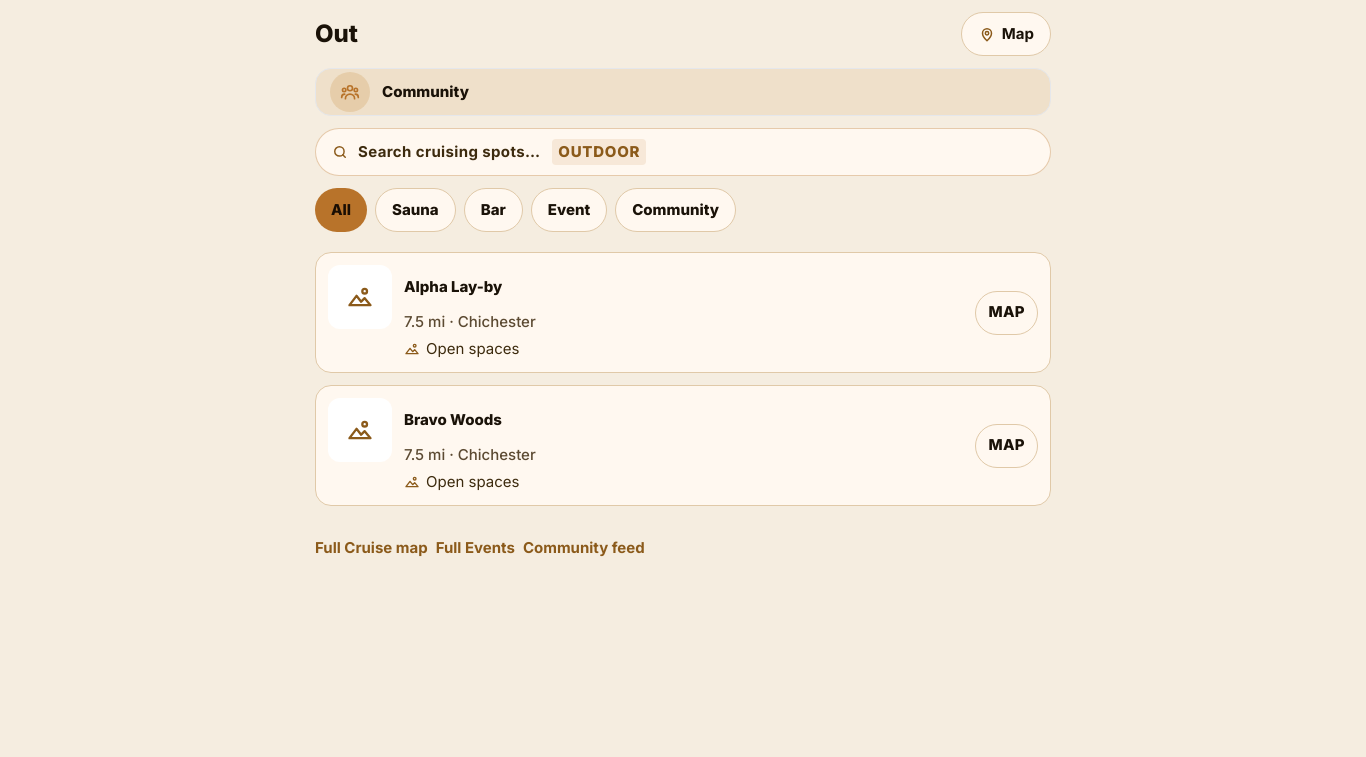
Test: Out list re-reads are latest-wins › a late re-read for spot A does not overwrite spot B's newer check-in
The image size is (1366, 757).
Click the button "Alpha Lay-by" at (453, 286), box [404,265,963,309]
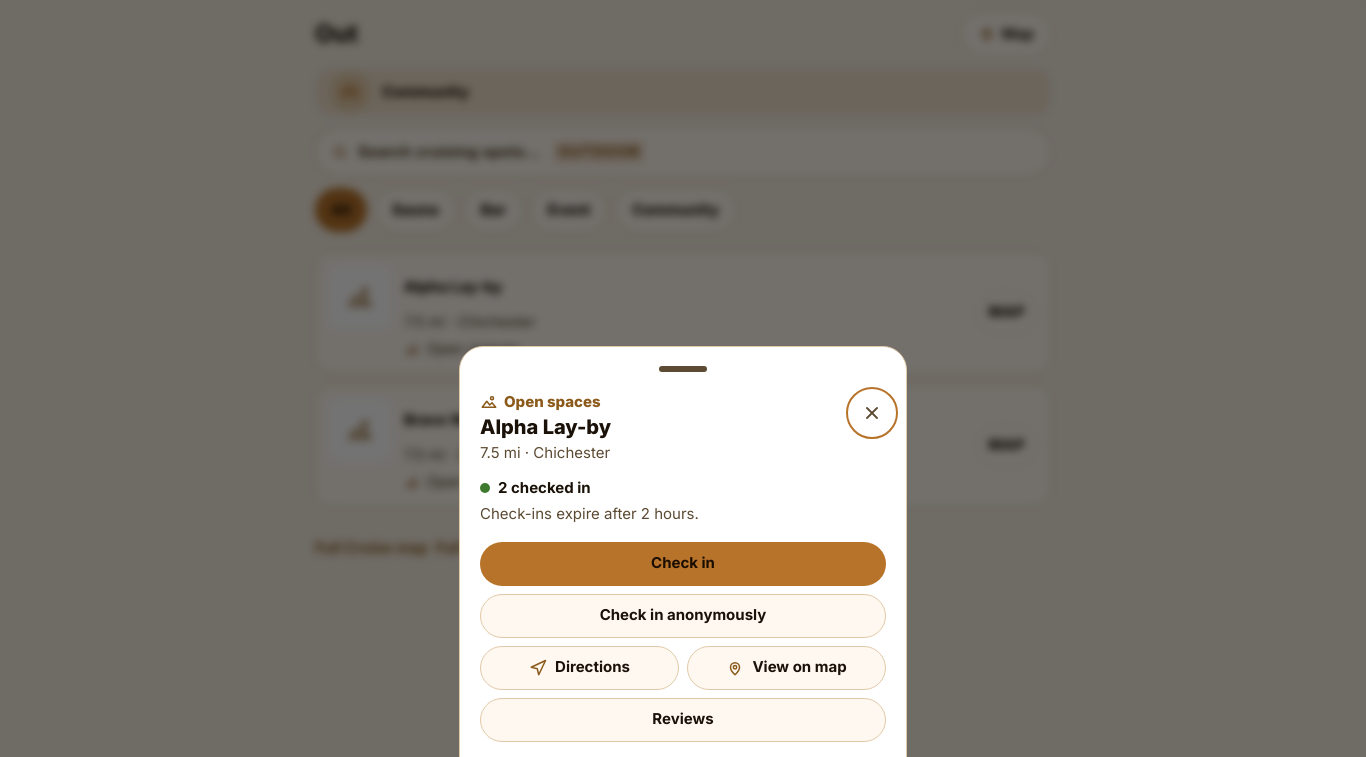
Click the button with test id "hotspot-sheet-checkin" at (683, 564), box [480,542,886,586]
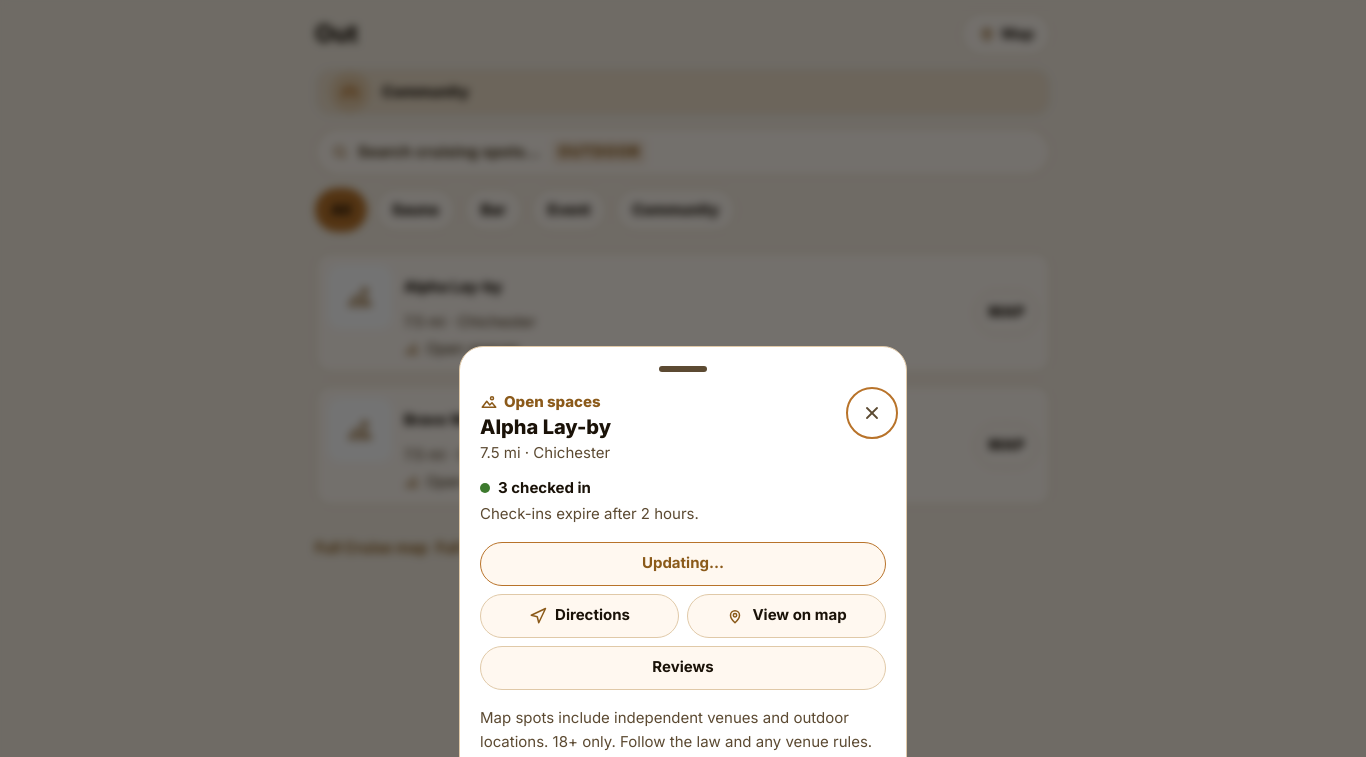
Click the button with test id "hotspot-sheet-close" at (872, 413), box [850,391,894,435]
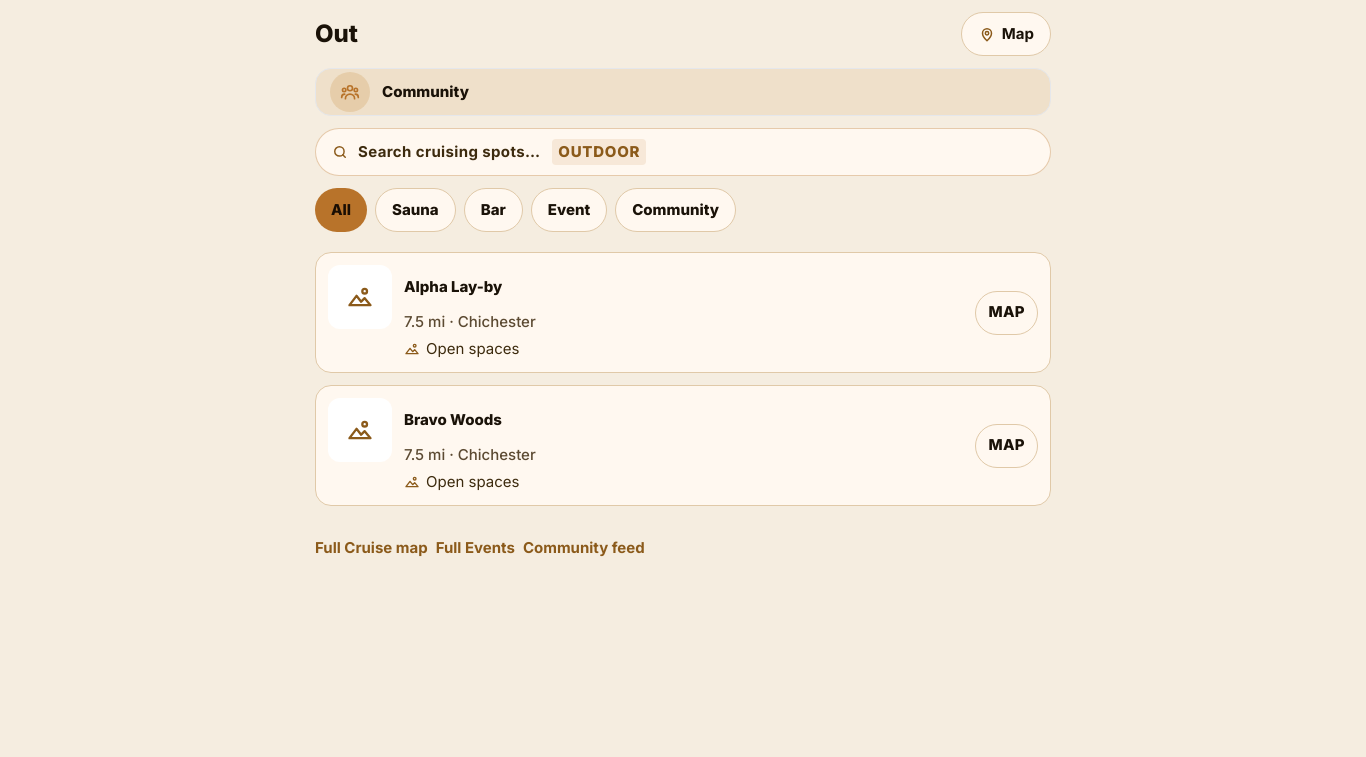
Click the button "Bravo Woods" at (453, 419), box [404,398,963,442]
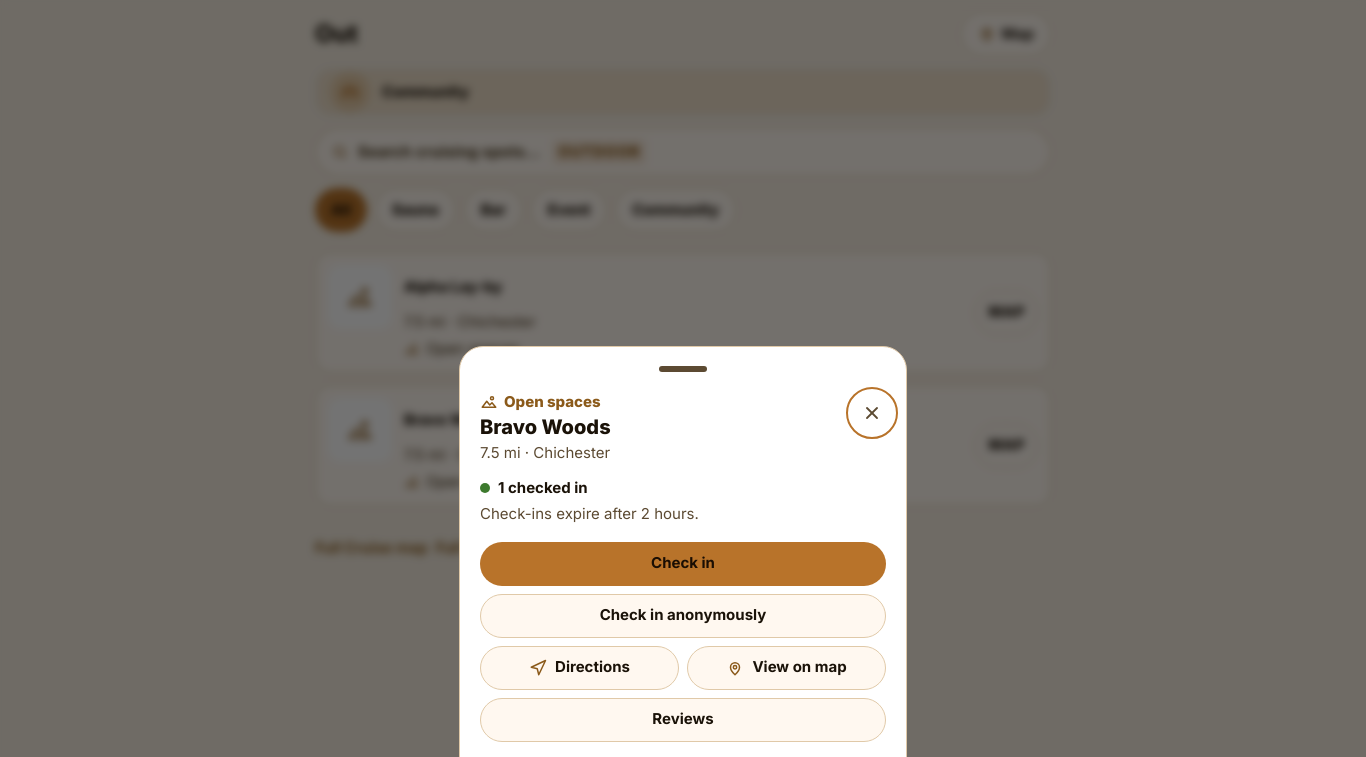
Click the button with test id "hotspot-sheet-checkin" at (683, 564), box [480,542,886,586]
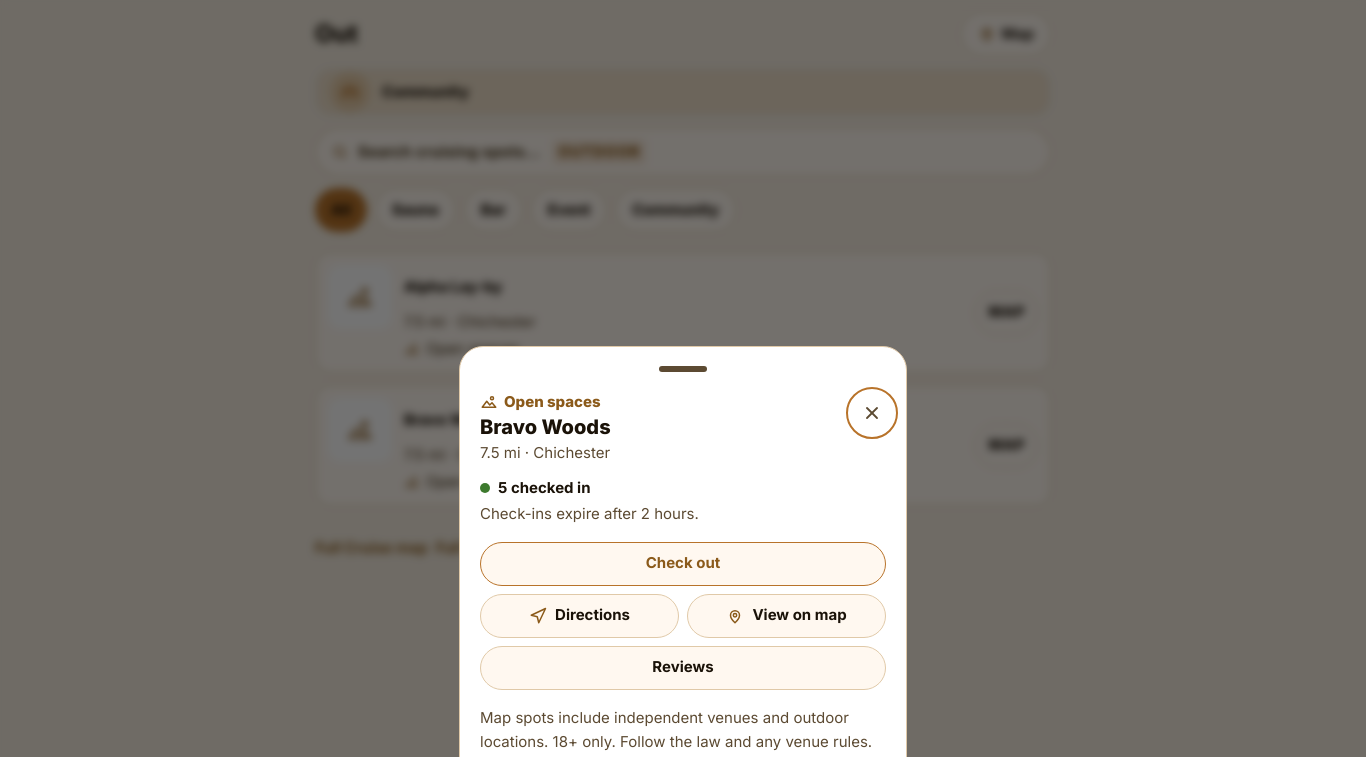
Expected: the element with test id "hotspot-sheet-activity" reads "5 checked in", [498,478,590,497]
Expected: the button with test id "hotspot-sheet-checkout" is shown, [480,542,886,586]
